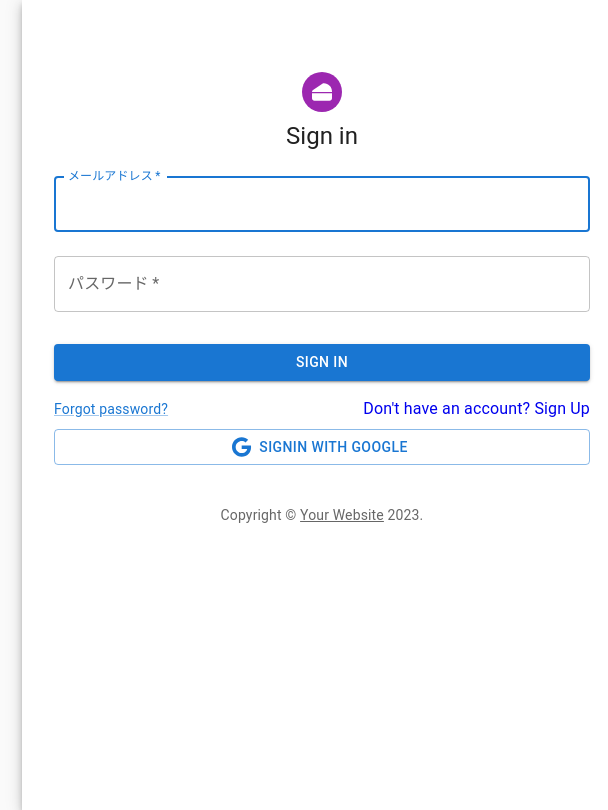
Test case: ログイン画面 › メールアドレス入力 › 形式チェック
The width and height of the screenshot is (608, 810).
Type "abc" into the field labelled "メールアドレス *" at [322, 204], box [54,176,590,232]
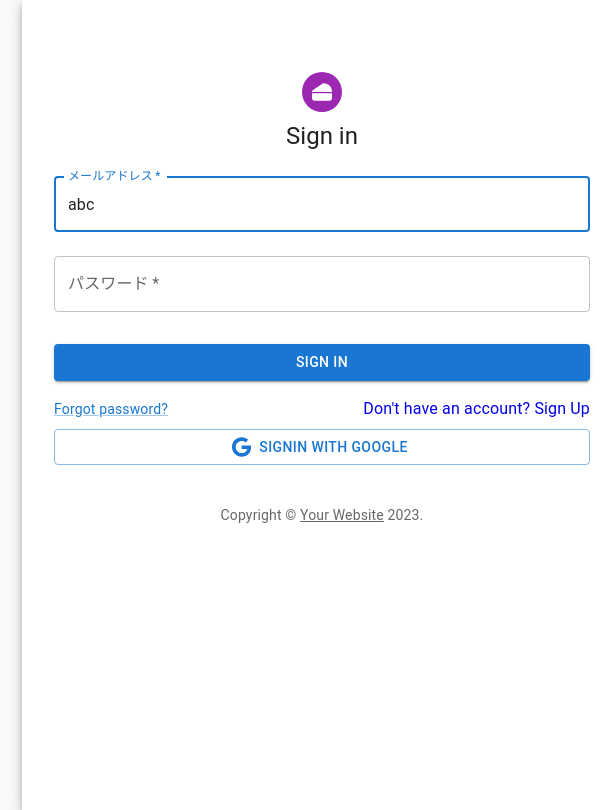
Click the button "Sign In" at [322, 362], box [54,344,590,380]
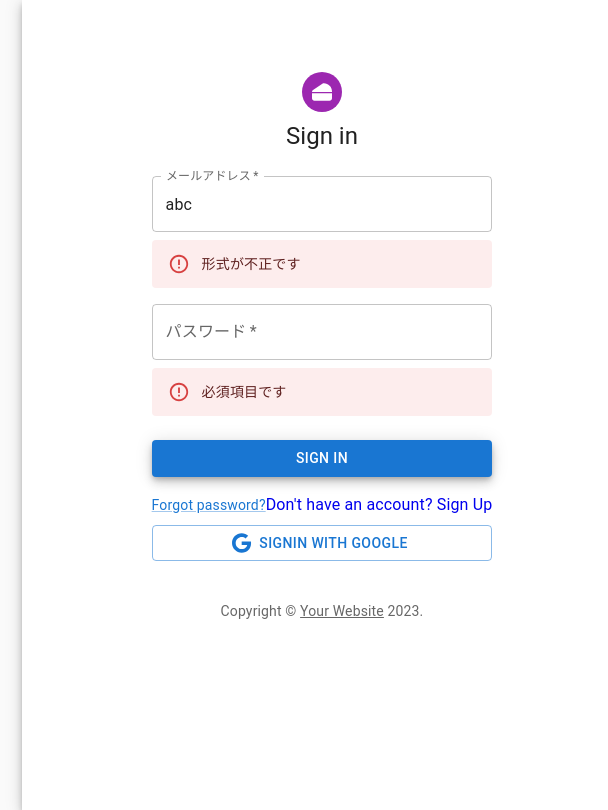
expect the text "形式が不正です" is shown: met, box [202,256,301,272]
